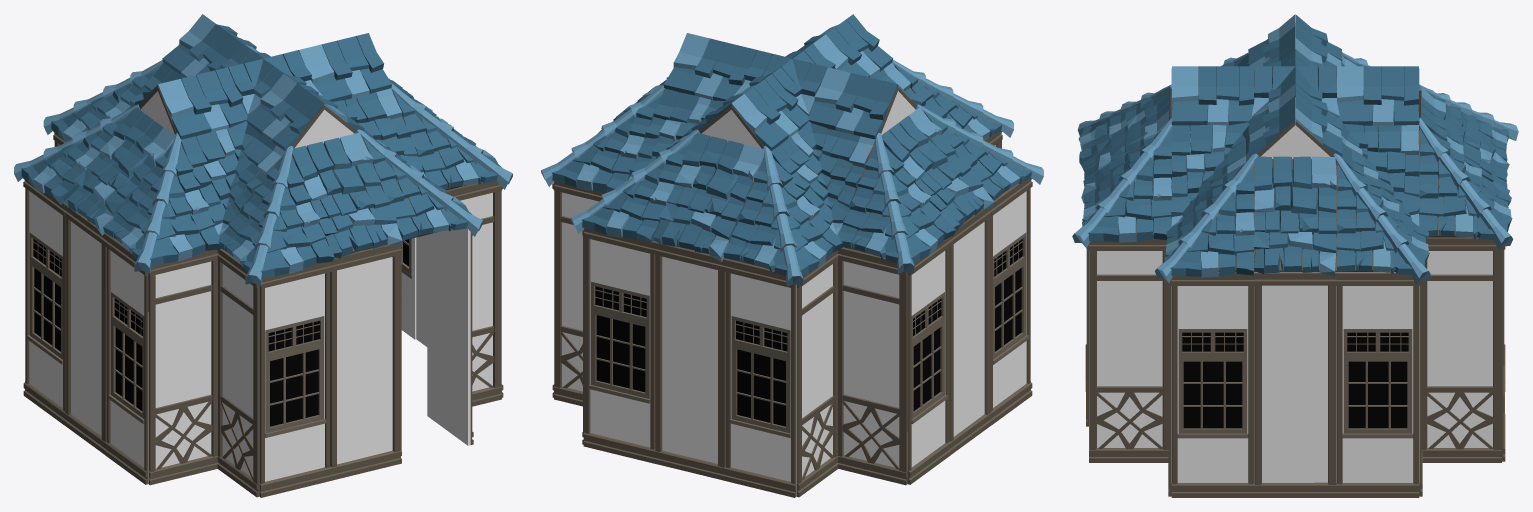
The model's file is House_03_parts.fbx.
3 views of the same model, side by side, from view 1: azimuth 30°, elevation 25°; view 2: azimuth 150°, elevation 25°; view 3: azimuth 270°, elevation 25° (orthographic).
Visible parts, largest first — view 1: WALL_03_3, WINDOW_04_3, WALL_04_4, WINDOW_04_4, WALL_03_4, WALL_04_10, WALL_04_3, WINDOW_04_5, ROOF_base_3, ROOF_corner_out_9, ROOF_corner_out_3, WALL_04_9 (+19 smaller); view 2: WALL_03_5, WINDOW_04_6, WINDOW_04_7, WALL_04_5, WINDOW_04_5, WALL_03_4, WALL_04_6, WINDOW_04_4, ROOF_base_5, ROOF_corner_out_6, ROOF_corner_out_8, WALL_04_8 (+17 smaller); view 3: WINDOW_04_8, WALL_03_6, WINDOW_04_9, WALL_04_7, WALL_04_10, ROOF_base_4, ROOF_corner_out_5, ROOF_corner_out_4, ROOF_corner_out_2, ROOF_corner_out_7, ROOF_inner_corner_3, ROOF_inner_corner_4 (+17 smaller).
Boxes of the visible parts, x1,y1,x2,y2 form: WALL_03_3: (330, 244, 401, 480); WINDOW_04_3: (259, 262, 331, 497); WALL_04_4: (148, 249, 218, 485); WINDOW_04_4: (104, 233, 148, 484); WALL_03_4: (64, 204, 106, 454); WALL_04_10: (427, 228, 473, 445); WALL_04_3: (217, 248, 259, 497); WINDOW_04_5: (23, 178, 65, 424); ROOF_base_3: (292, 132, 402, 258); ROOF_corner_out_9: (103, 133, 220, 273); ROOF_corner_out_3: (218, 146, 334, 286); WALL_04_9: (446, 181, 502, 406); WALL_03_5: (654, 241, 725, 480); WINDOW_04_6: (724, 258, 796, 497); WINDOW_04_7: (583, 228, 655, 463); WALL_04_5: (837, 247, 907, 485); WINDOW_04_5: (907, 237, 951, 484); WALL_03_4: (949, 208, 991, 454); WALL_04_6: (796, 250, 838, 497); WINDOW_04_4: (990, 178, 1032, 424); ROOF_base_5: (653, 133, 764, 261); ROOF_corner_out_6: (723, 146, 842, 286); ROOF_corner_out_8: (838, 133, 956, 274); WALL_04_8: (553, 181, 606, 406); WINDOW_04_8: (1336, 272, 1419, 497); WALL_03_6: (1254, 272, 1336, 497); WINDOW_04_9: (1171, 272, 1254, 497); WALL_04_7: (1422, 237, 1501, 462); WALL_04_10: (1089, 237, 1168, 462); ROOF_base_4: (1253, 156, 1336, 276); ROOF_corner_out_5: (1155, 153, 1258, 282); ROOF_corner_out_4: (1332, 153, 1430, 284); ROOF_corner_out_2: (1072, 118, 1172, 248); ROOF_corner_out_7: (1419, 117, 1513, 249); ROOF_inner_corner_3: (1170, 122, 1249, 226); ROOF_inner_corner_4: (1341, 122, 1420, 225).
Size of the model in its own units: 541 by 459 by 541.
